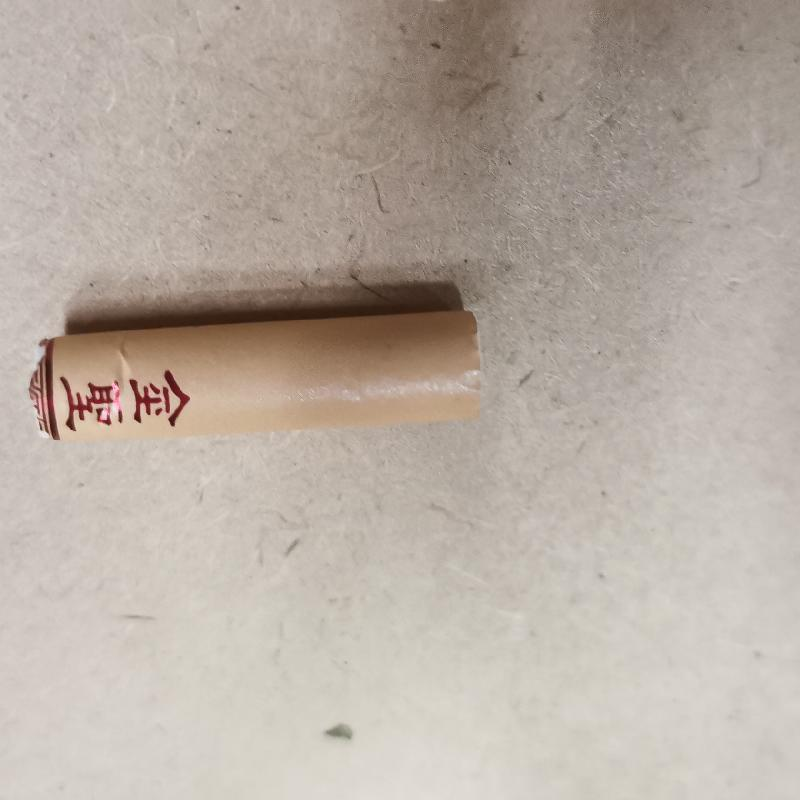cigarette: (31, 309, 485, 450)
